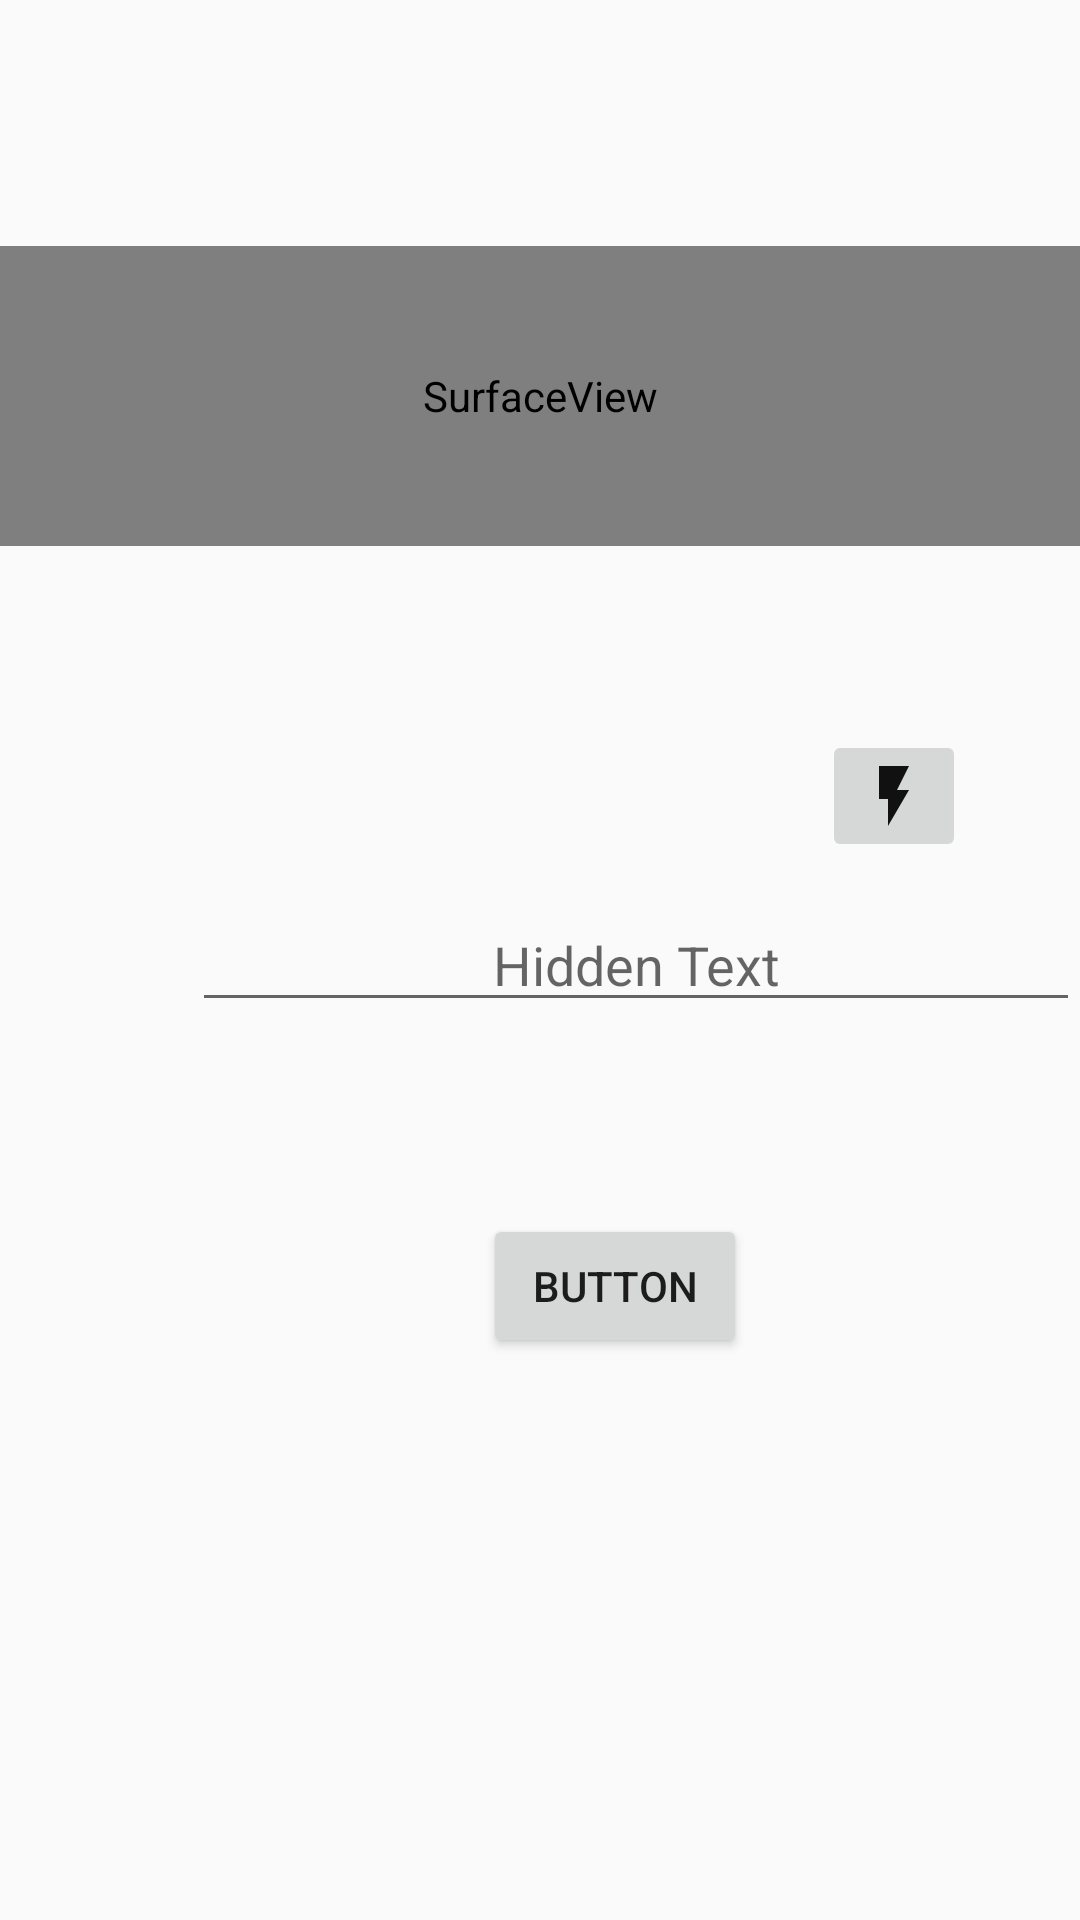

Screen size 1080 x 1920. Icon name, then its center in pixels as (x,y):
flash on: (894,796)
